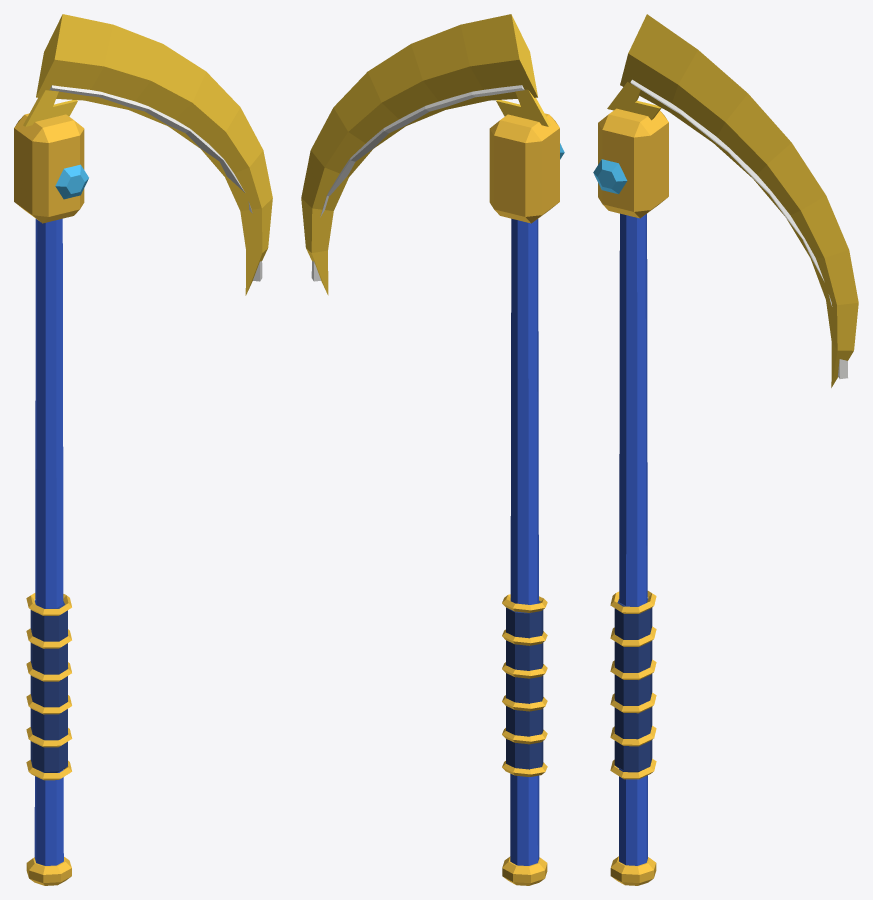
The model's file is ThunderScythe.fbx.
The picture shows the model from 3 angles, left to right: view 1: azimuth 30°, elevation 25°; view 2: azimuth 150°, elevation 25°; view 3: azimuth 330°, elevation 25°; orthographic projection.
Parts seen in each view (by area): view 1: ThunderScythe; view 2: ThunderScythe; view 3: ThunderScythe.
Boxes of the visible parts, bbox=[...] form: ThunderScythe: bbox=[14, 14, 272, 885]; ThunderScythe: bbox=[301, 14, 564, 885]; ThunderScythe: bbox=[593, 14, 858, 885].
Bounding box in the file's own units: 1.91 × 6.3 × 0.55.
1 material, 1 textured.
